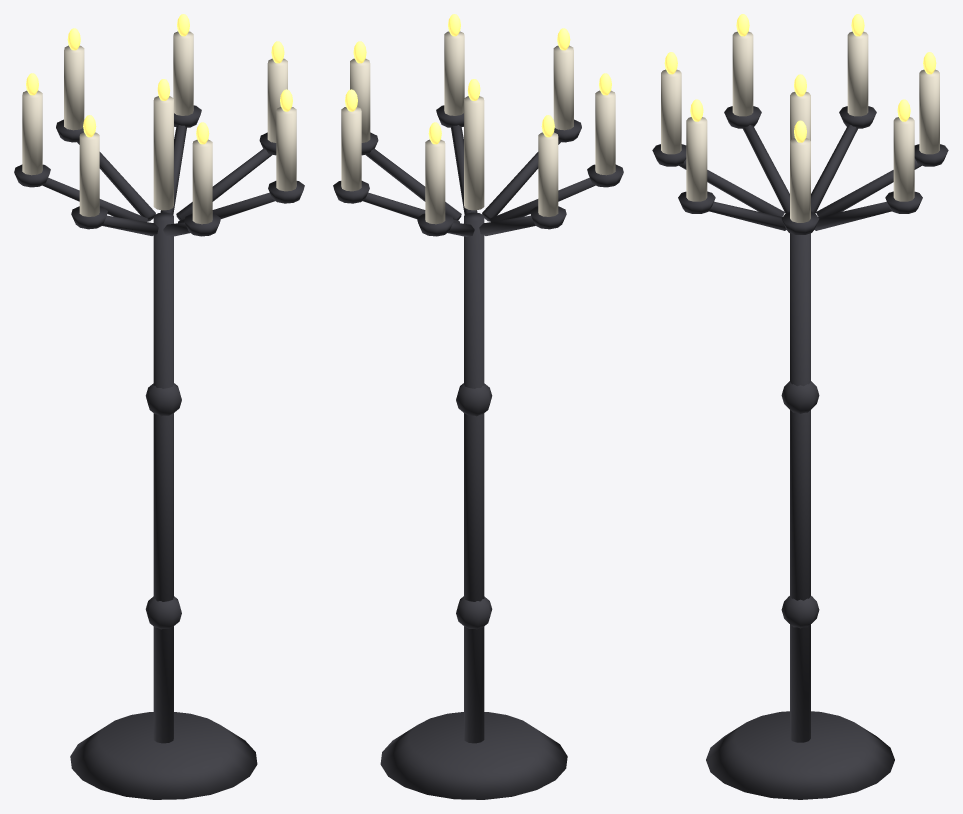
Rendered from candelabra_seven_branch.glb.
3 views of the same model, side by side, from view 1: azimuth 30°, elevation 25°; view 2: azimuth 150°, elevation 25°; view 3: azimuth 270°, elevation 25° (orthographic).
Parts seen in each view (by area): view 1: GD_candelabra_seven_branch__m0, GD_candelabra_seven_branch__m1, GD_candelabra_seven_branch__m2; view 2: GD_candelabra_seven_branch__m0, GD_candelabra_seven_branch__m1, GD_candelabra_seven_branch__m2; view 3: GD_candelabra_seven_branch__m0, GD_candelabra_seven_branch__m1, GD_candelabra_seven_branch__m2.
Boxes of the visible parts, bbox=[...] form: GD_candelabra_seven_branch__m0: bbox=[14, 105, 304, 799]; GD_candelabra_seven_branch__m1: bbox=[22, 31, 296, 224]; GD_candelabra_seven_branch__m2: bbox=[26, 14, 292, 144]; GD_candelabra_seven_branch__m0: bbox=[333, 105, 623, 799]; GD_candelabra_seven_branch__m1: bbox=[341, 31, 615, 224]; GD_candelabra_seven_branch__m2: bbox=[345, 14, 611, 144]; GD_candelabra_seven_branch__m0: bbox=[652, 106, 948, 799]; GD_candelabra_seven_branch__m1: bbox=[661, 31, 939, 222]; GD_candelabra_seven_branch__m2: bbox=[664, 14, 936, 142].
Size of the model in its own units: 0.6084 by 1.62 by 0.626.
